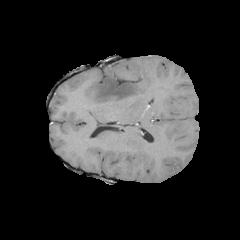glioma: (88, 70, 143, 125)
